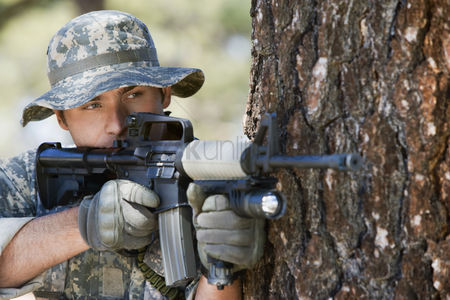rifle: (27, 111, 364, 285)
